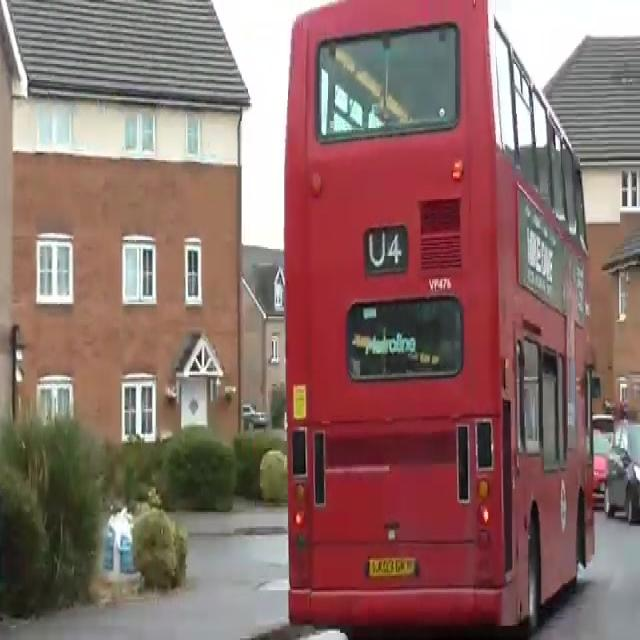bus: (269, 1, 609, 640)
